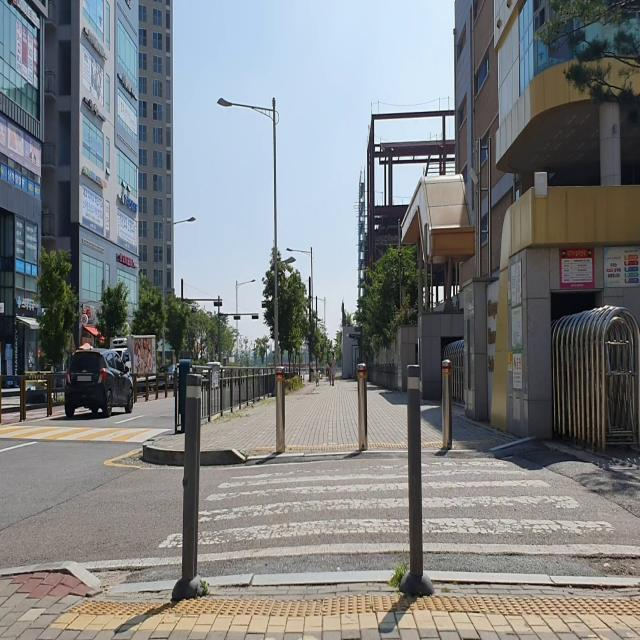횡단보도: (156, 459, 618, 554)
